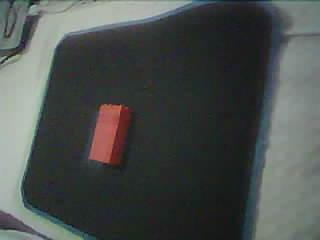lego: (88, 103, 132, 164)
